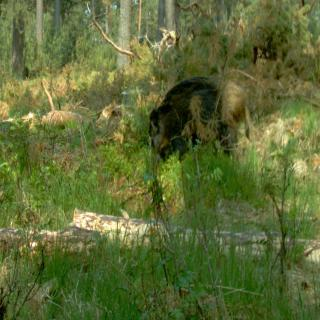Pig: (137, 67, 262, 161)
